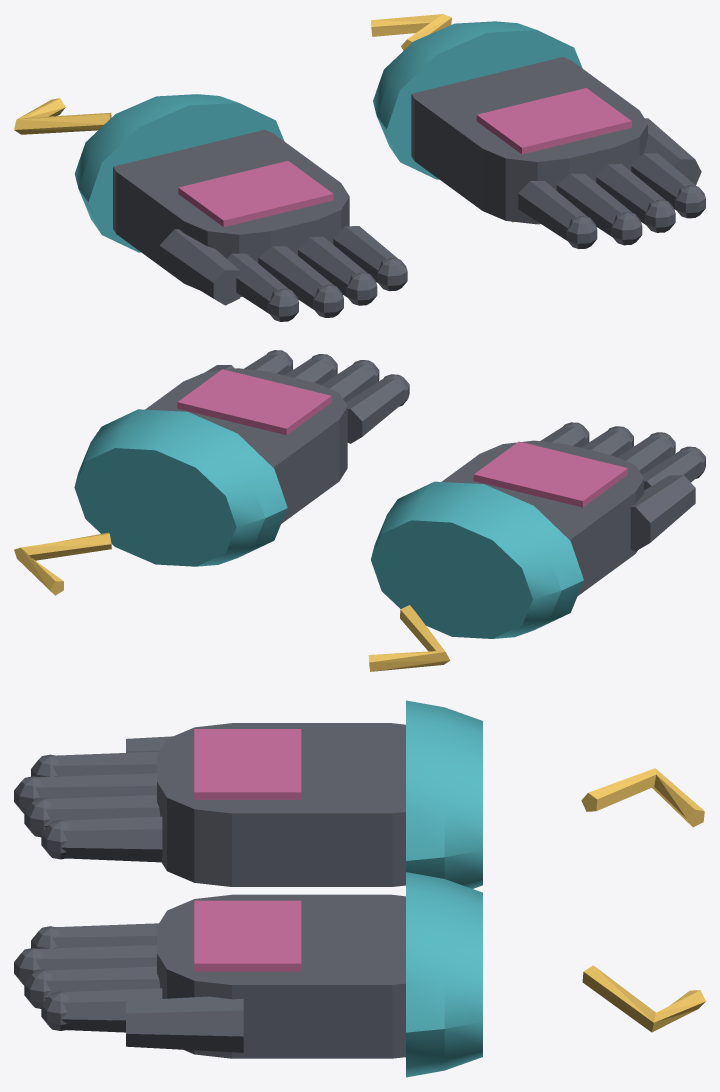
The model's file is snowboard-gear-and-freestyle-riders-snowboard-gloves-e3eb5999__27157.glb.
The picture shows the model from 3 angles, top to bottom: view 1: azimuth 30°, elevation 25°; view 2: azimuth 150°, elevation 25°; view 3: azimuth 270°, elevation 25°; orthographic projection. The views are drawn at different scales.
Parts seen in each view (by area): view 1: snowboard-gloves; view 2: snowboard-gloves; view 3: snowboard-gloves.
Boxes of the visible parts, x1,y1,x2,y2 form: snowboard-gloves: (14,14,705,321); snowboard-gloves: (14,350,705,671); snowboard-gloves: (14,700,705,1077).
Bounding box in the file's own units: 0.318 × 0.088 × 0.3238.
